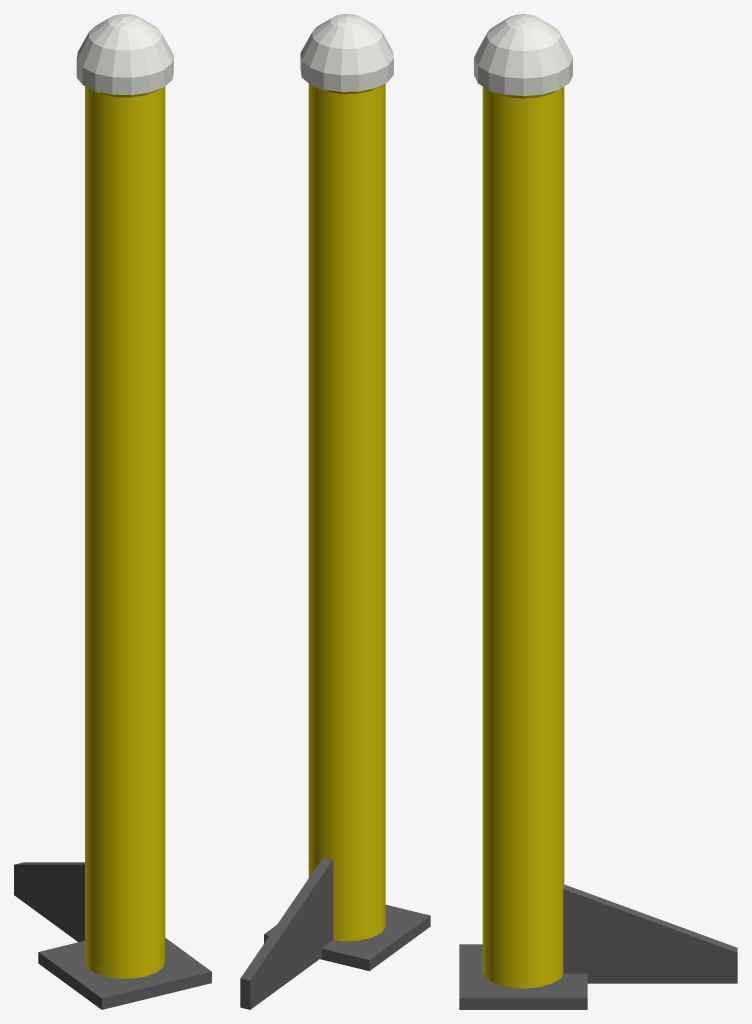
Rendered from SM_garage_rod_03.fbx.
3 renders of one model, left to right at view 1: azimuth 30°, elevation 25°; view 2: azimuth 150°, elevation 25°; view 3: azimuth 270°, elevation 25°, orthographic. The views are drawn at different scales.
Visible parts, largest first — view 1: garage_rod_03; view 2: garage_rod_03; view 3: garage_rod_03.
Boxes of the visible parts, x1,y1,x2,y2 form: garage_rod_03: [14, 14, 211, 1009]; garage_rod_03: [240, 14, 430, 1009]; garage_rod_03: [459, 14, 737, 1009].
Size of the model in its own units: 43.93 by 365 by 95.27.
